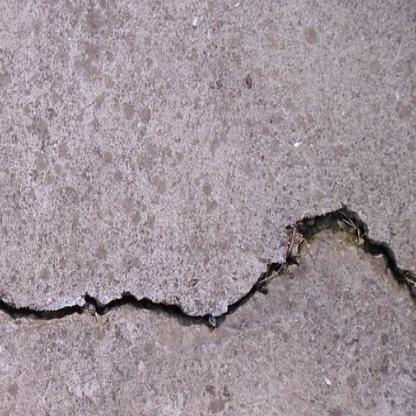Cracks: (0, 199, 416, 339)
